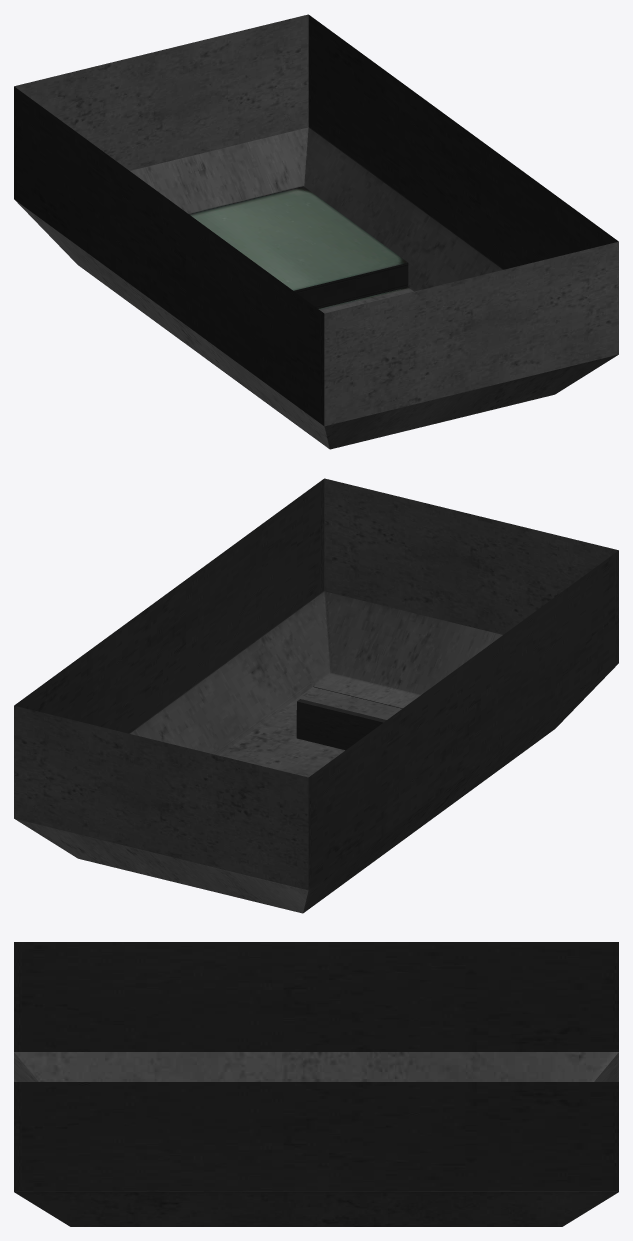
The model's file is IS_EUGENE_A_FEMBOY.obj.
The picture shows the model from 3 angles, top to bottom: view 1: azimuth 30°, elevation 25°; view 2: azimuth 150°, elevation 25°; view 3: azimuth 270°, elevation 25°; orthographic projection. The views are drawn at different scales.
Visible parts, largest first — view 1: ButtonKeycard.x_Mesh; view 2: ButtonKeycard.x_Mesh; view 3: ButtonKeycard.x_Mesh.
Part boxes in pixels (left/top/right/bottom): ButtonKeycard.x_Mesh: left=14, top=14, right=618, bottom=449; ButtonKeycard.x_Mesh: left=14, top=478, right=618, bottom=913; ButtonKeycard.x_Mesh: left=14, top=942, right=618, bottom=1226.
Bounding box in the file's own units: 2.77 × 1.49 × 5.05.
